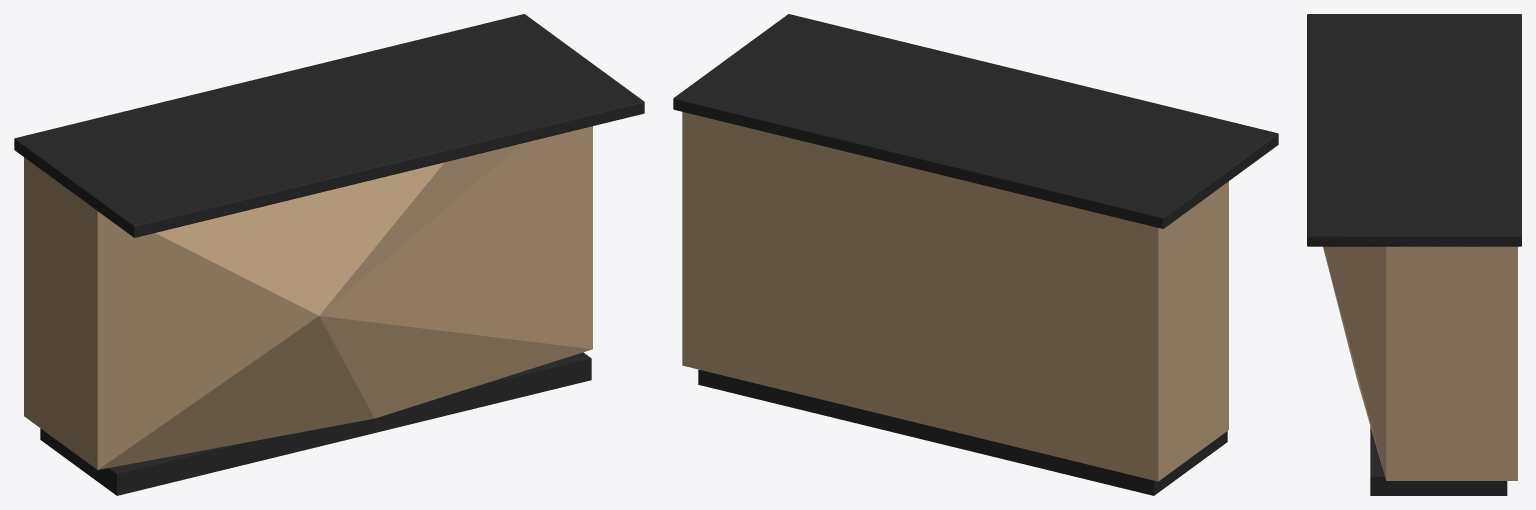
Rendered from barra_facetada.glb.
The picture shows the model from 3 angles, left to right: view 1: azimuth 30°, elevation 25°; view 2: azimuth 150°, elevation 25°; view 3: azimuth 270°, elevation 25°; orthographic projection. The views are drawn at different scales.
Visible parts, largest first — view 1: frente_facetado, tapa; view 2: frente_facetado, tapa; view 3: tapa, frente_facetado.
Boxes of the visible parts, x1,y1,x2,y2 form: frente_facetado: (24,126,592,469); tapa: (14,14,644,495); frente_facetado: (682,112,1228,481); tapa: (673,14,1278,495); tapa: (1307,14,1521,495); frente_facetado: (1323,246,1517,480).
Bounding box in the file's own units: 1.96 × 1.1 × 0.7999.
